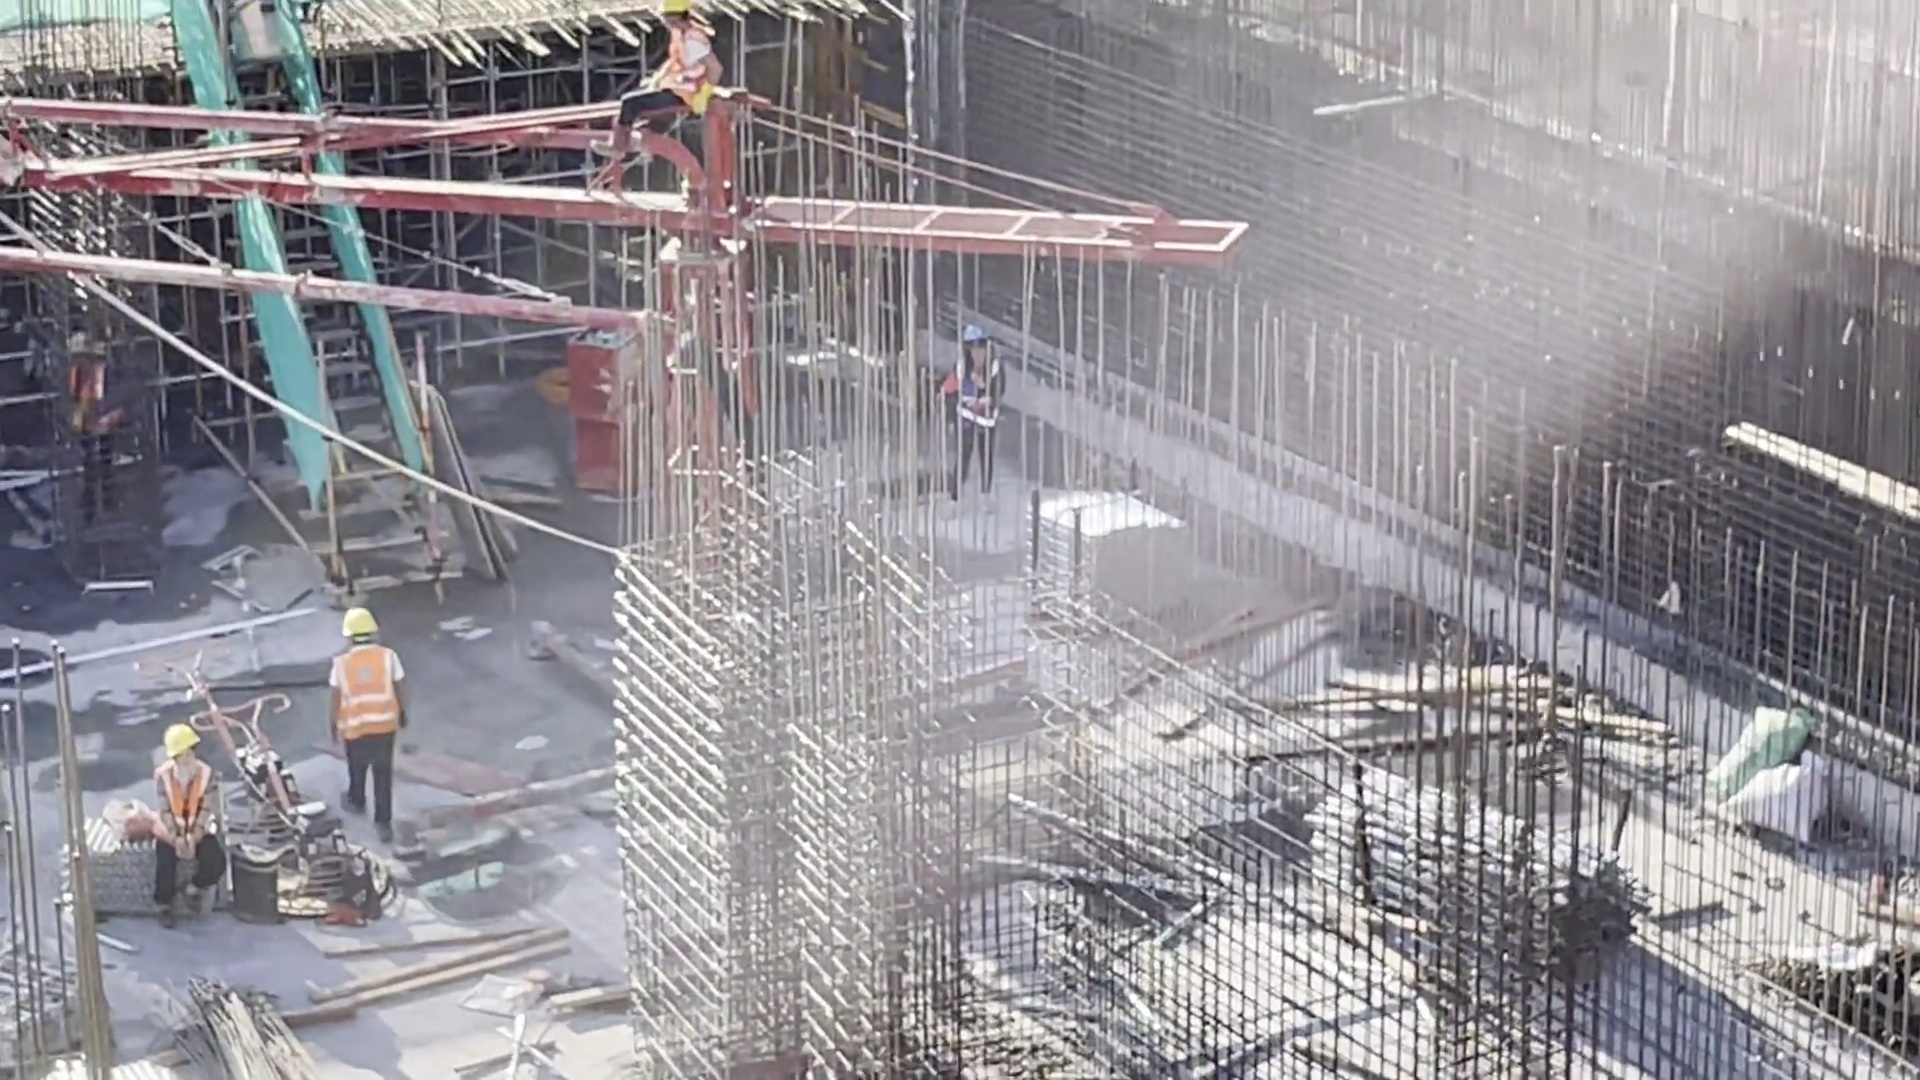helmet: (339, 603, 380, 644), (161, 723, 201, 756), (73, 335, 112, 364), (957, 323, 990, 346), (658, 7, 693, 22)
person: (585, 6, 734, 185), (318, 600, 411, 844), (54, 324, 148, 532), (148, 720, 225, 934), (947, 326, 1014, 501)
vest: (339, 653, 403, 752), (159, 775, 213, 852), (665, 34, 715, 97), (74, 368, 119, 434)
